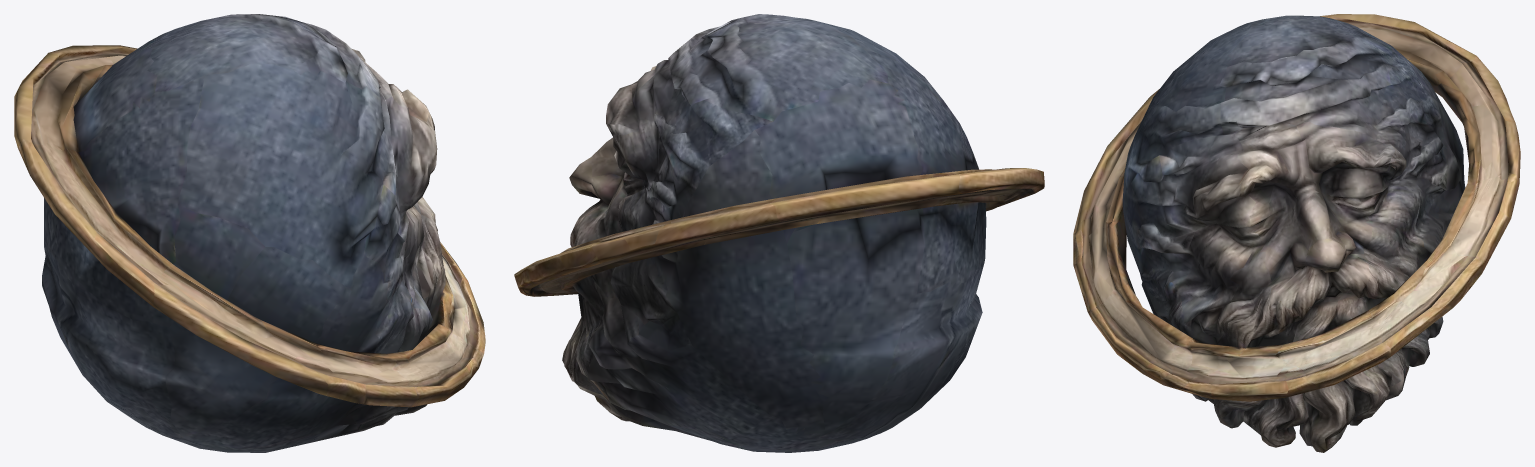
File: L-saturn.glb
3 renders of one model, left to right at view 1: azimuth 30°, elevation 25°; view 2: azimuth 150°, elevation 25°; view 3: azimuth 270°, elevation 25°, orthographic. The views are drawn at different scales.
Visible parts, largest first — view 1: tripo_node_d898799d-ca48-4ed3-aa84-51c29880e5e5; view 2: tripo_node_d898799d-ca48-4ed3-aa84-51c29880e5e5; view 3: tripo_node_d898799d-ca48-4ed3-aa84-51c29880e5e5.
Boxes of the visible parts, bbox=[...] form: tripo_node_d898799d-ca48-4ed3-aa84-51c29880e5e5: bbox=[14, 14, 485, 452]; tripo_node_d898799d-ca48-4ed3-aa84-51c29880e5e5: bbox=[514, 14, 1044, 452]; tripo_node_d898799d-ca48-4ed3-aa84-51c29880e5e5: bbox=[1073, 14, 1520, 452].
Size of the model in its own units: 0.9652 by 0.8645 by 0.9776.
1 material, 1 textured.
